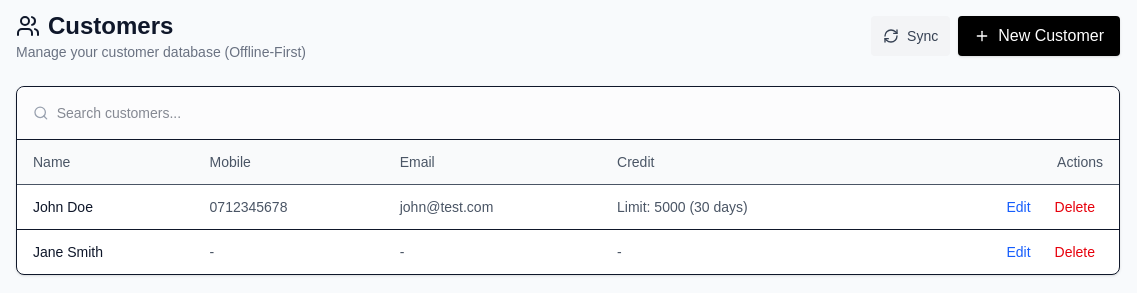
Test: CustomersPage › filters customers by search term
This screenshot has width=1137, height=293.
In the field with placeholder "Search customers...": (580, 113) [57, 103, 1103, 123], type "John"
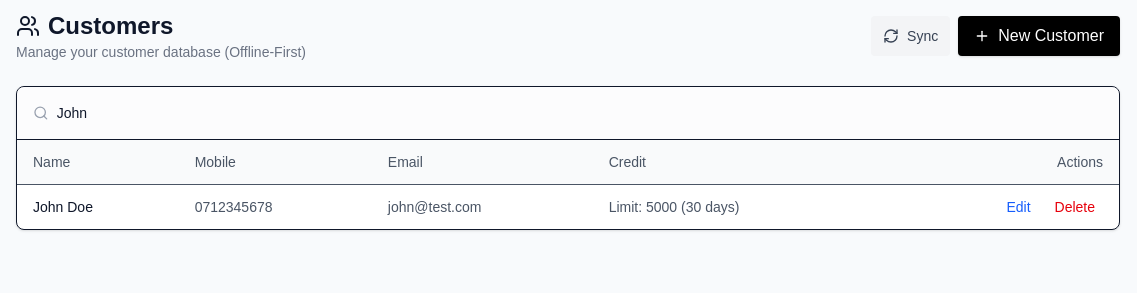
Expected: the text "John Doe" is shown, [17, 184, 179, 229]
Now the text "Jane Smith" is gone
